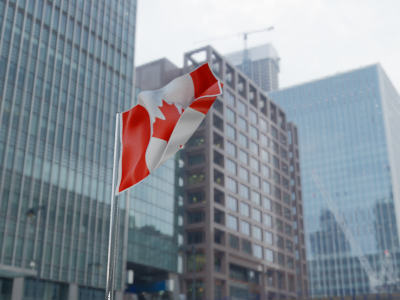Canada flag: (114, 62, 223, 195)
